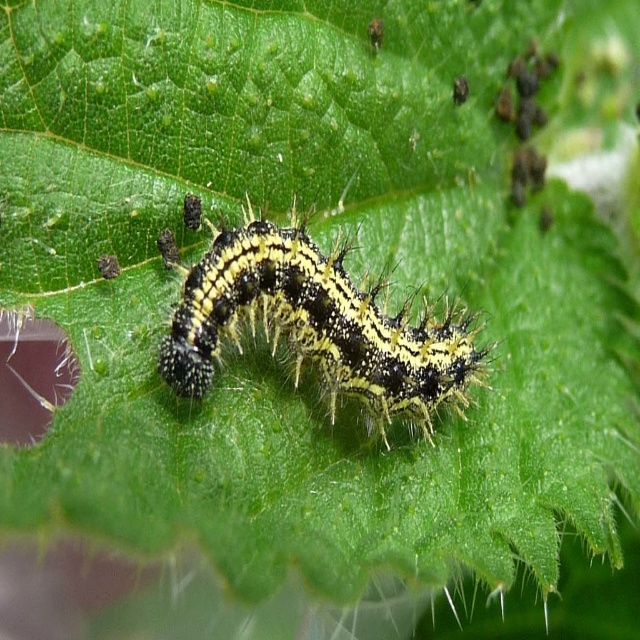Centipede: (155, 191, 503, 456)
